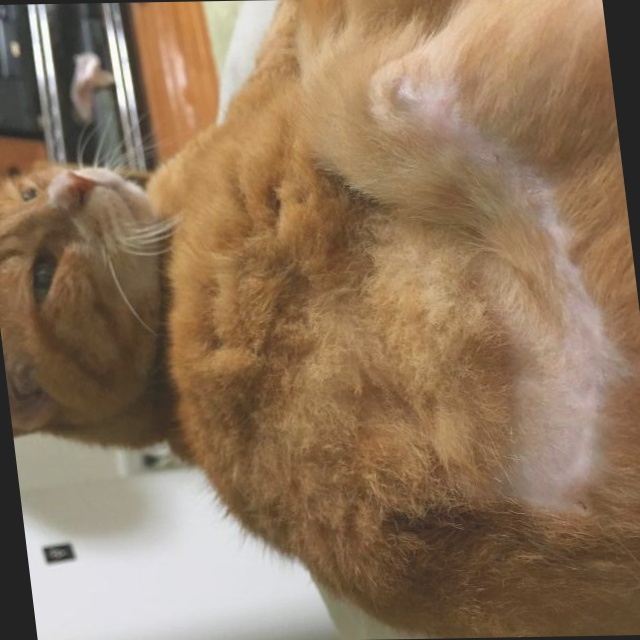hairloss: (485, 285, 623, 491)
